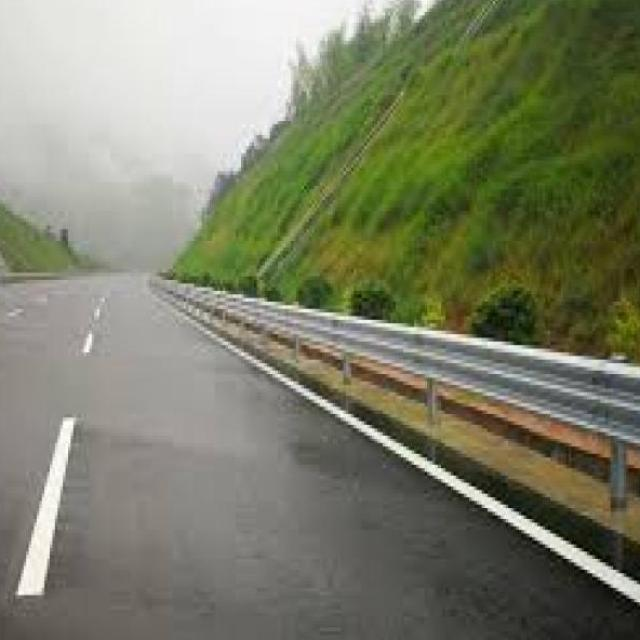Guard rail: (158, 280, 640, 445)
